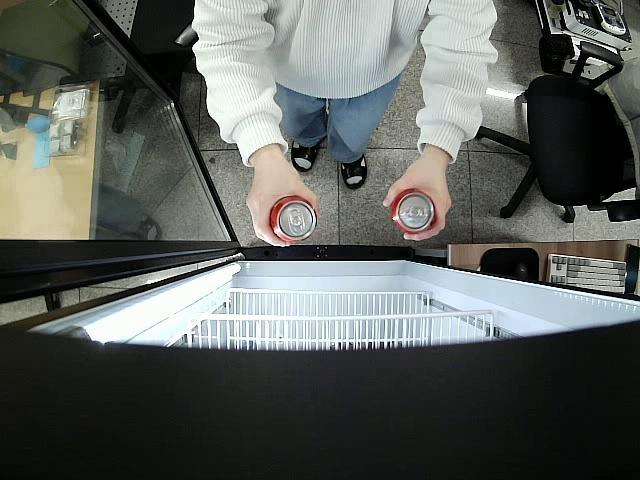11_cocaColaZero: (268, 194, 318, 244), (388, 188, 438, 234)
